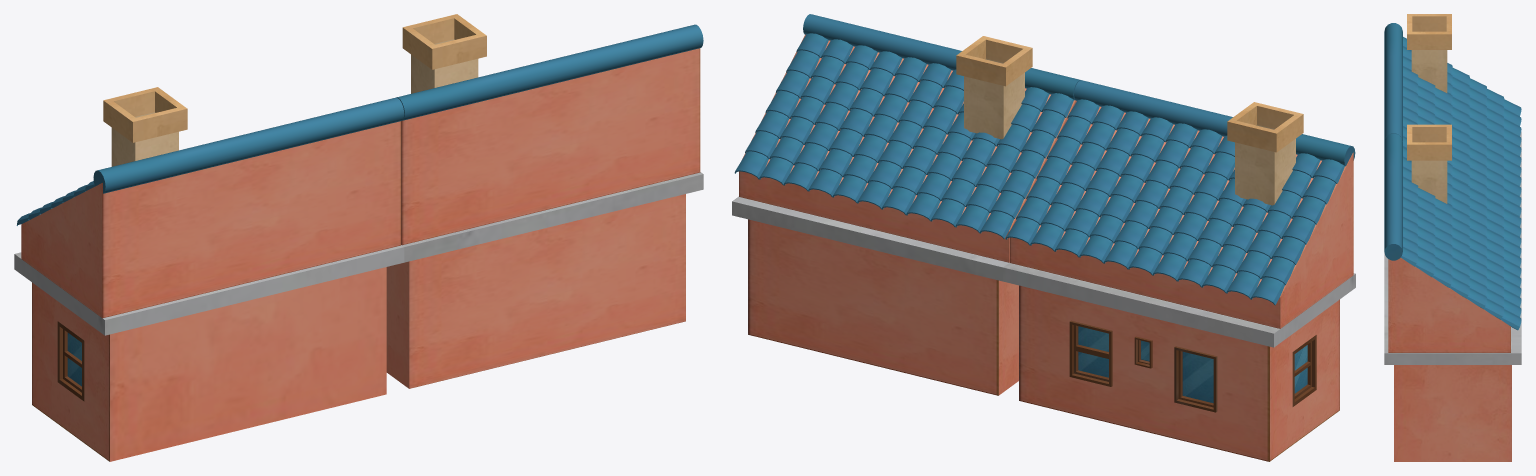
File: home-bungalow.glb
The picture shows the model from 3 angles, left to right: view 1: azimuth 30°, elevation 25°; view 2: azimuth 150°, elevation 25°; view 3: azimuth 270°, elevation 25°; orthographic projection. The views are drawn at different scales.
Visible parts, largest first — view 1: home-bungalow; view 2: home-bungalow; view 3: home-bungalow.
Part boxes in pixels (left/top/right/bottom): home-bungalow: left=14, top=14, right=703, bottom=461; home-bungalow: left=732, top=14, right=1355, bottom=461; home-bungalow: left=1384, top=14, right=1521, bottom=461.
Bounding box in the file's own units: 3 × 1.56 × 0.7857.
1 material, 1 textured.
